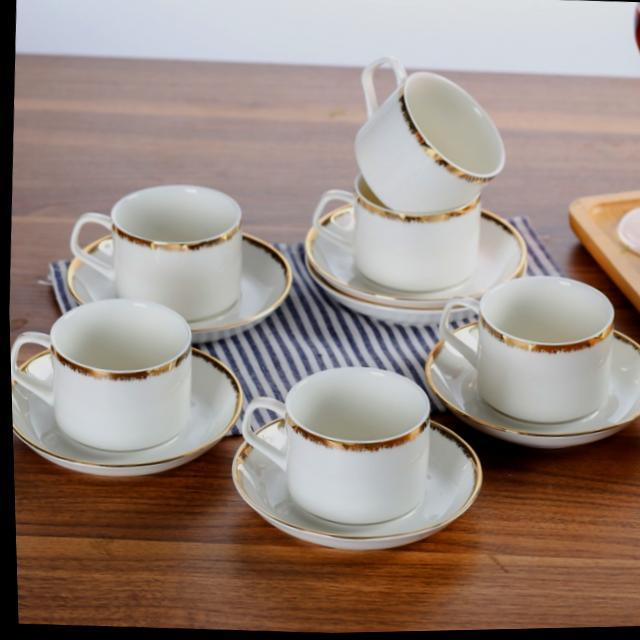cup: (218, 355, 486, 567)
